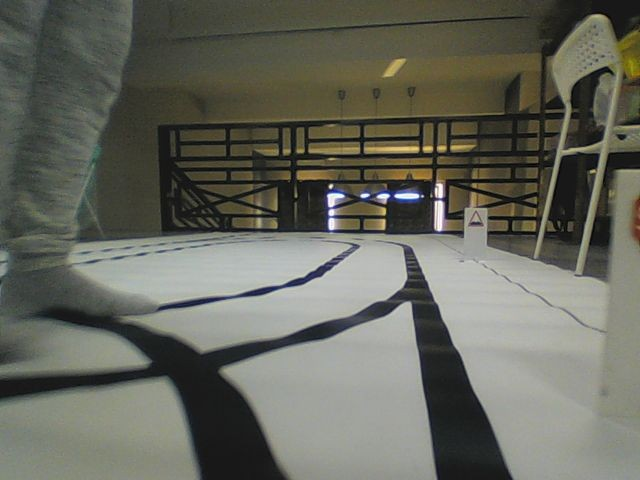Nerov: (466, 209, 485, 228)
